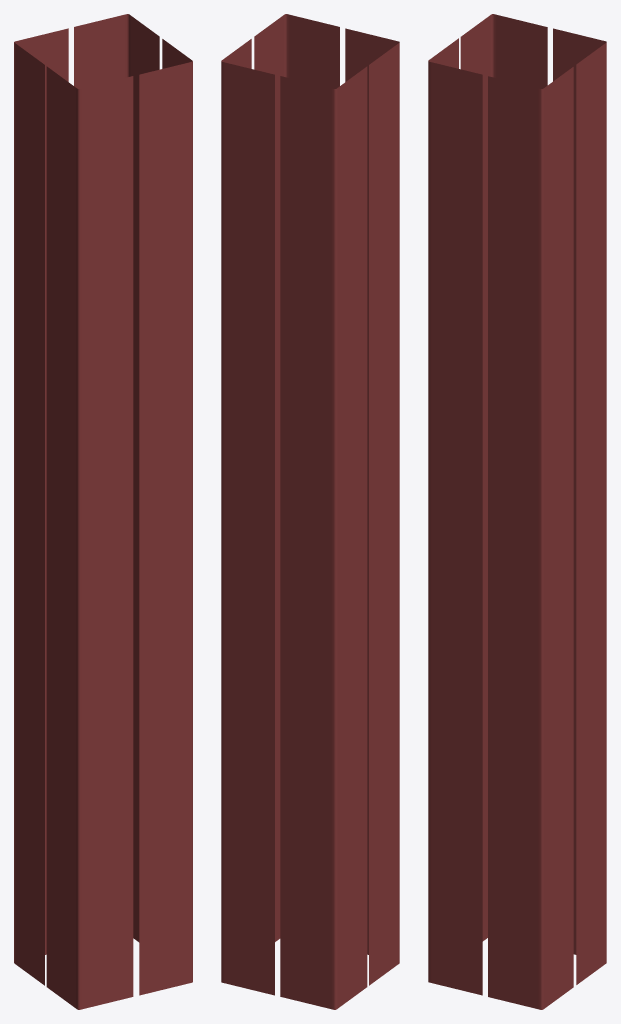
Rendered from Decal_wallIn_C_column_small.FBX.
The picture shows the model from 3 angles, left to right: view 1: azimuth 30°, elevation 25°; view 2: azimuth 150°, elevation 25°; view 3: azimuth 330°, elevation 25°; orthographic projection.
Visible parts, largest first — view 1: Decal_wallIn_C_column_small; view 2: Decal_wallIn_C_column_small; view 3: Decal_wallIn_C_column_small.
Part boxes in pixels (left/top/right/bottom): Decal_wallIn_C_column_small: left=14, top=14, right=192, bottom=1009; Decal_wallIn_C_column_small: left=221, top=14, right=399, bottom=1009; Decal_wallIn_C_column_small: left=428, top=14, right=606, bottom=1009.
Bounding box in the file's own units: 35.6 × 272 × 34.91.
